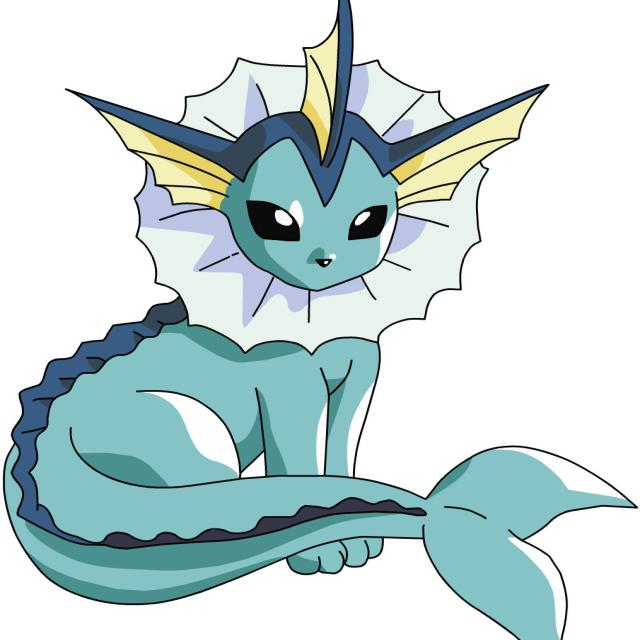Vaporeon: (63, 67, 497, 514)
